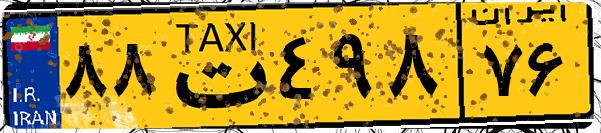4: (270, 28, 330, 110)
6: (525, 38, 570, 115)
7: (475, 38, 525, 113)
8: (385, 28, 445, 110), (57, 26, 110, 100), (110, 28, 158, 98)
9: (330, 28, 385, 110)
ت: (158, 12, 270, 120)
